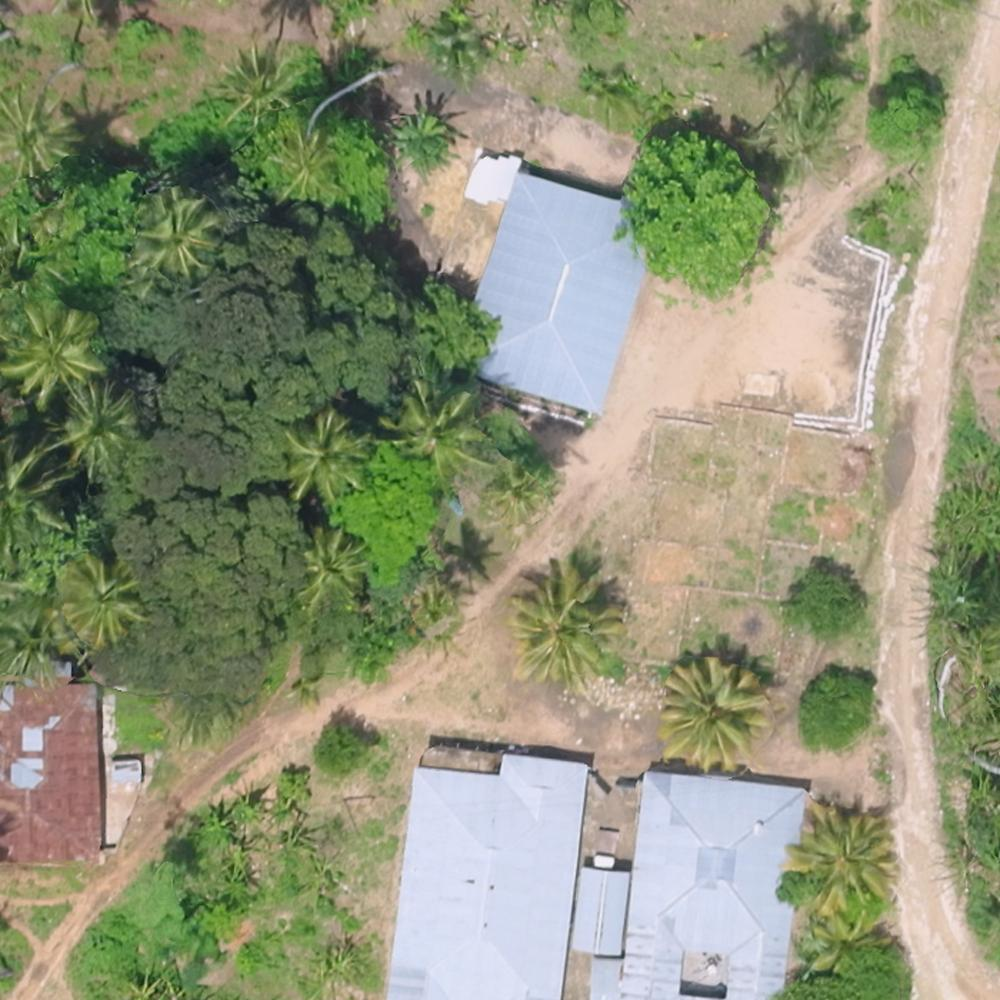not palm: (616, 794, 704, 880), (610, 909, 699, 991), (21, 792, 101, 881), (636, 222, 729, 296), (1, 703, 79, 786), (745, 229, 824, 310), (496, 846, 584, 916), (410, 740, 485, 822), (559, 321, 641, 396), (392, 836, 475, 910), (705, 431, 782, 510), (753, 332, 831, 409), (178, 512, 261, 584), (209, 311, 286, 388), (612, 419, 688, 497), (660, 324, 738, 399), (482, 926, 568, 994), (494, 757, 571, 832), (9, 905, 83, 980), (297, 271, 371, 344), (917, 935, 999, 1000), (913, 312, 985, 386), (396, 929, 467, 998), (630, 146, 703, 213)
